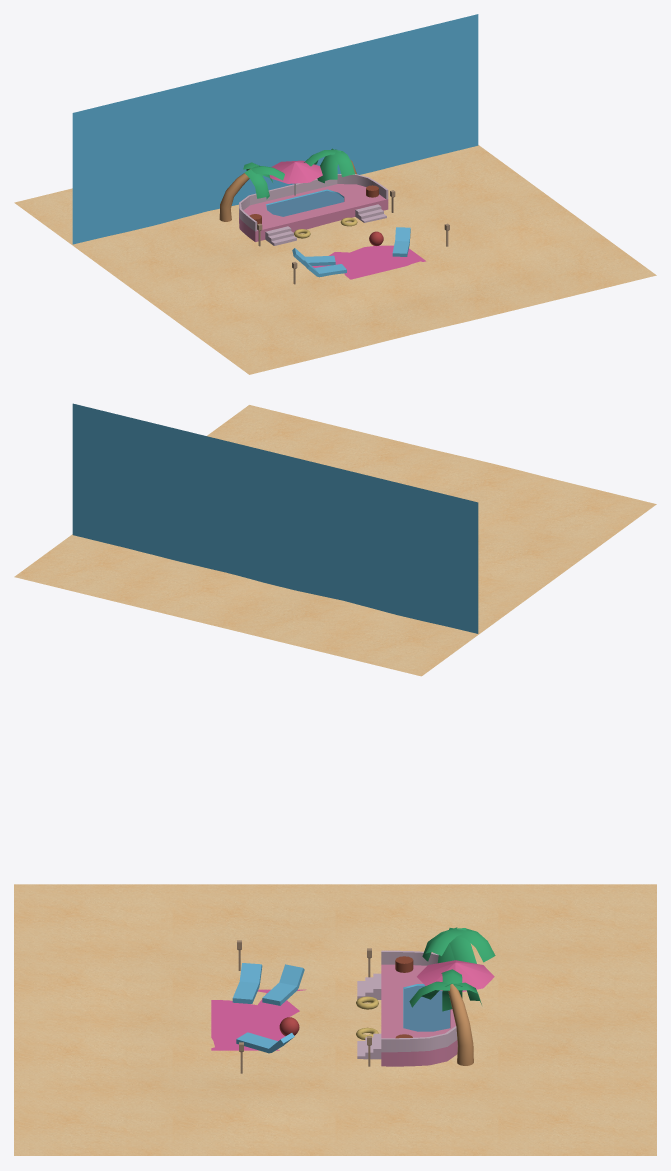
The model's file is poolPlaysetGreybox.fbx.
3 views of the same model, one above another, from view 1: azimuth 30°, elevation 25°; view 2: azimuth 150°, elevation 25°; view 3: azimuth 270°, elevation 25° (orthographic). The views are drawn at different scales.
Visible parts, largest first — view 1: sand, sky, pool, rug, fence, lPalmTree, water, rPalmTree, umbrella; view 2: sky, sand; view 3: sand, pool, rug, rPalmTree, lPalmTree, fence, water, umbrella, poolChair01, poolChair02, poolChair03.
Part boxes in pixels (left/top/right/bottom): sand: left=14, top=145, right=656, bottom=374; sky: left=72, top=14, right=478, bottom=244; pool: left=239, top=184, right=388, bottom=241; rug: left=312, top=245, right=426, bottom=279; fence: left=239, top=174, right=388, bottom=231; lPalmTree: left=219, top=162, right=284, bottom=221; water: left=266, top=190, right=343, bottom=216; rPalmTree: left=304, top=148, right=356, bottom=183; umbrella: left=269, top=160, right=322, bottom=195; sky: left=72, top=403, right=478, bottom=633; sand: left=14, top=405, right=656, bottom=676; sand: left=14, top=884, right=656, bottom=1155; pool: left=381, top=964, right=457, bottom=1066; rug: left=211, top=989, right=306, bottom=1050; rPalmTree: left=409, top=969, right=481, bottom=1065; lPalmTree: left=422, top=927, right=495, bottom=963; fence: left=381, top=950, right=457, bottom=1052; water: left=404, top=985, right=449, bottom=1031; umbrella: left=417, top=960, right=494, bottom=991; poolChair01: left=262, top=964, right=304, bottom=1005; poolChair02: left=232, top=963, right=262, bottom=1003; poolChair03: left=236, top=1032, right=294, bottom=1053.
Size of the model in its own units: 3216 by 1008 by 3216.
